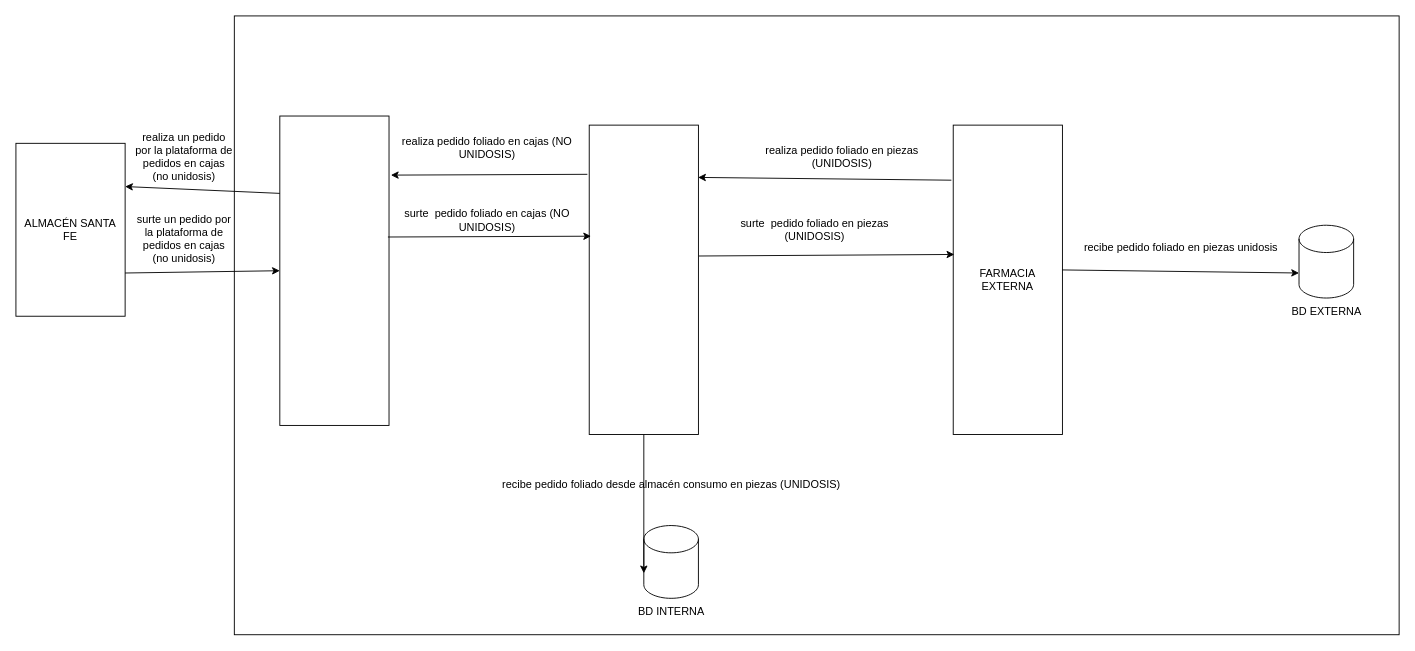
Some shapes in this 1415 by 651 pixel diagram are drawn without their labels. Each missing label, with the box of its shape:
ALMACEN CONSUMO HIDALGO: (279, 115, 389, 425)
FARMACIA INTERNA: (588, 124, 698, 435)
